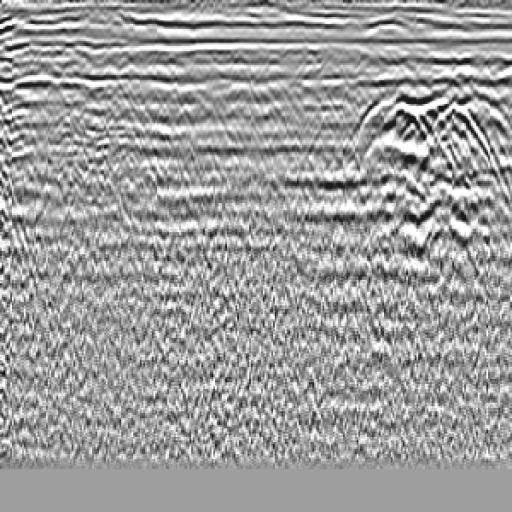non-metallic: (335, 62, 512, 297)
